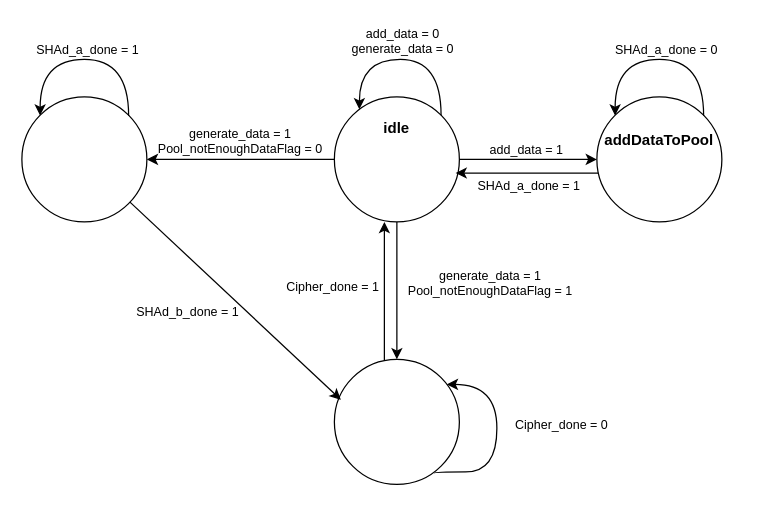
This 773x506 diagram has some shape labels left out. Here are the shapes that lost their labels. From the top down, the centre of each, then its label:
the point at 84,159: generateKey
the point at 396,421: generateData
